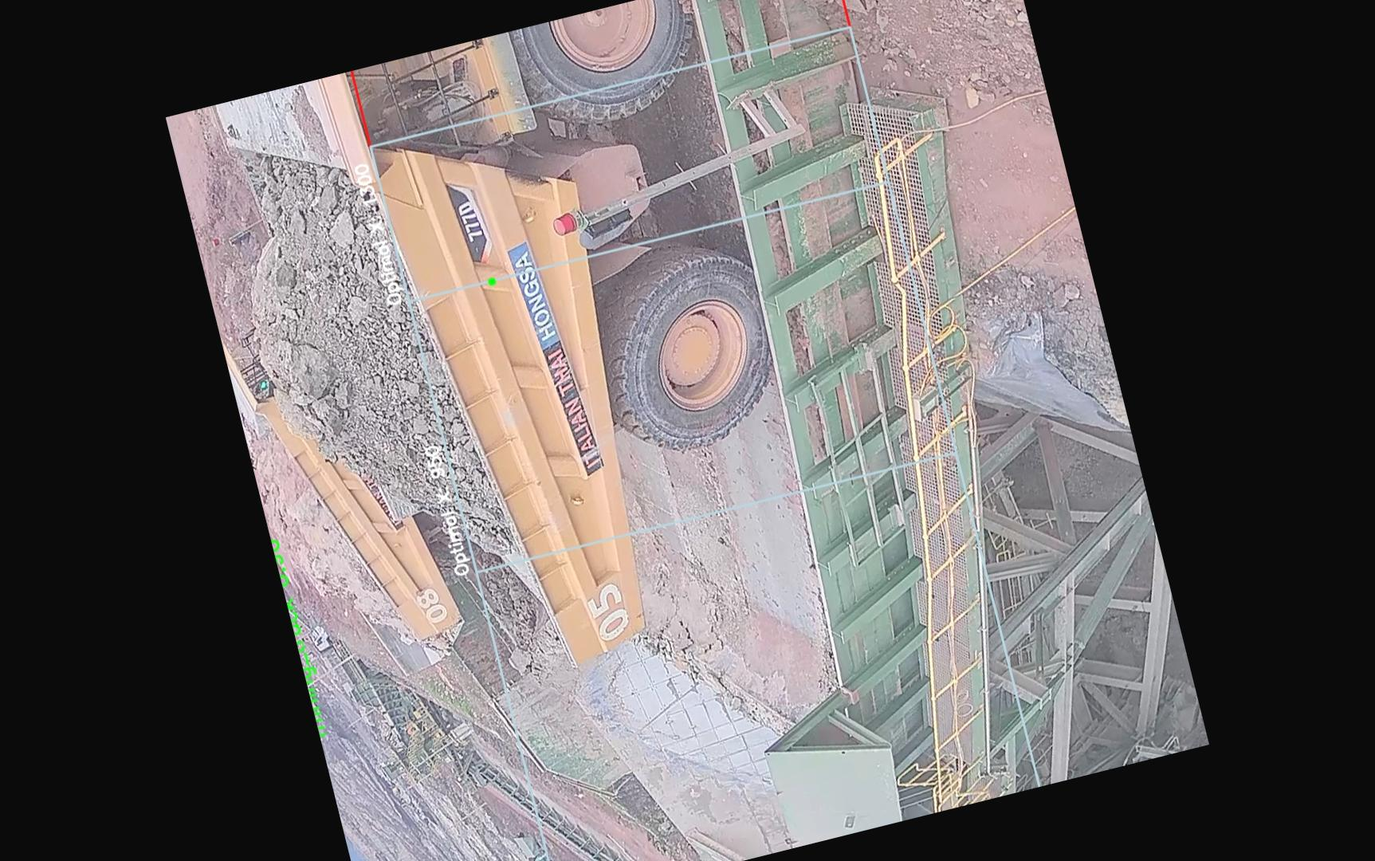company: (501, 234, 611, 486)
full_load: (213, 140, 476, 518)
mining_truck: (178, 0, 839, 747)
tail_number: (572, 557, 657, 657)
truck_size: (441, 168, 503, 278)
